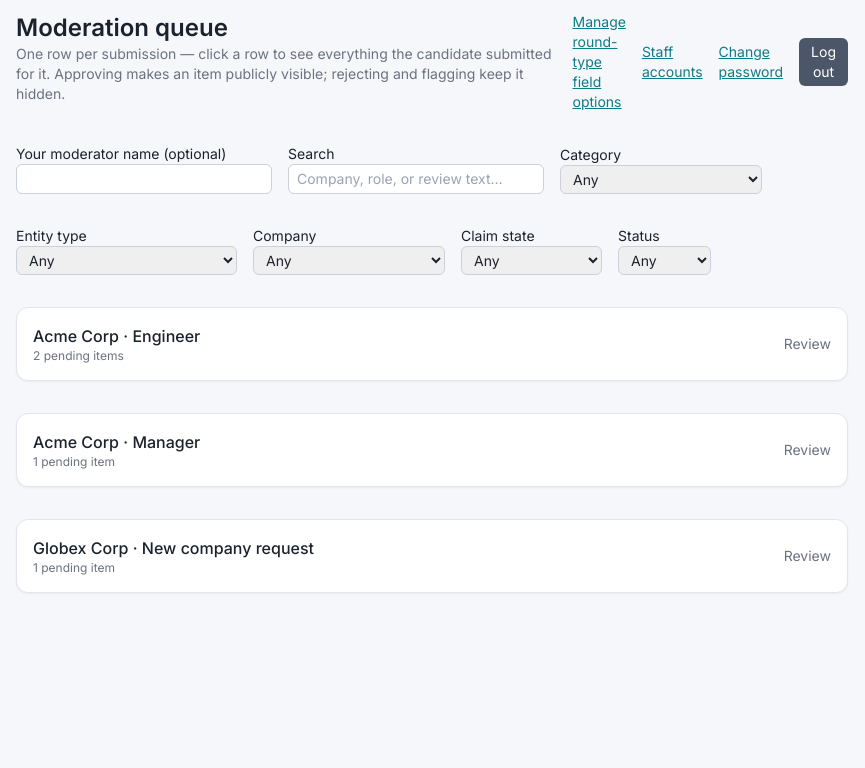
it: ModerationPage (Phase 14 issue #128; session gating Phase 18 issue #160; grouped-by-submission Phase 29 issue #315) › flag sends the selected reason and removes the entry
Click the button "Acme Corp · Manager 1 pending item Review".
click(76, 442)  # box 33,430 -> 831,470
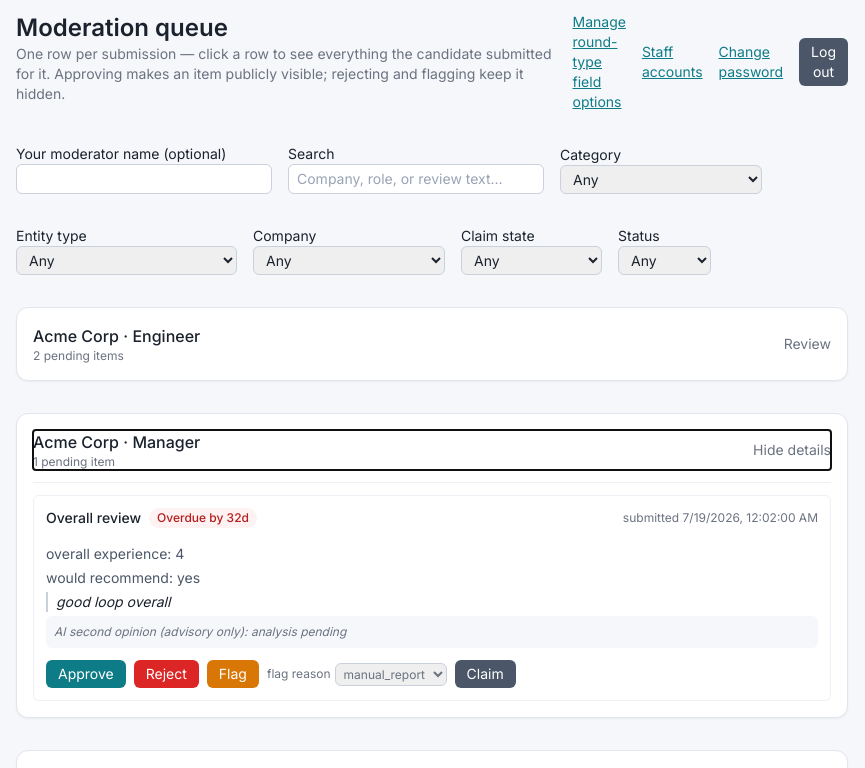
Now the heading "Overall review" is shown, box 46,508 -> 141,528
Select "spam_pattern" in the dropdown named "Flag reason for q-overall" at (391, 674), box 335,662 -> 447,686
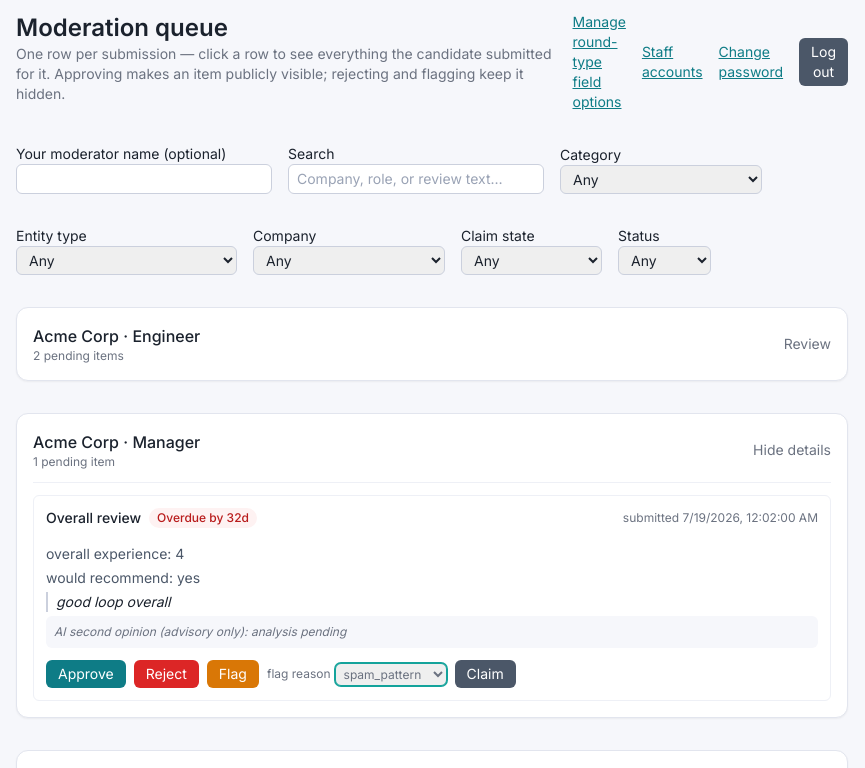
Click the button "Flag".
click(233, 674)  # box 207,660 -> 259,688
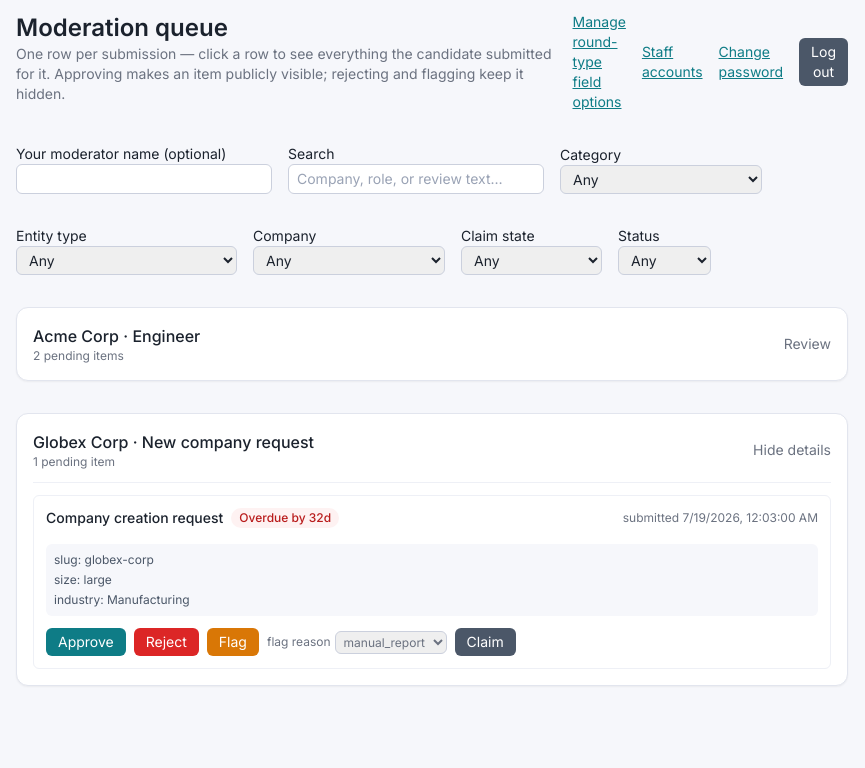
Now the button "Acme Corp · Manager" is gone
